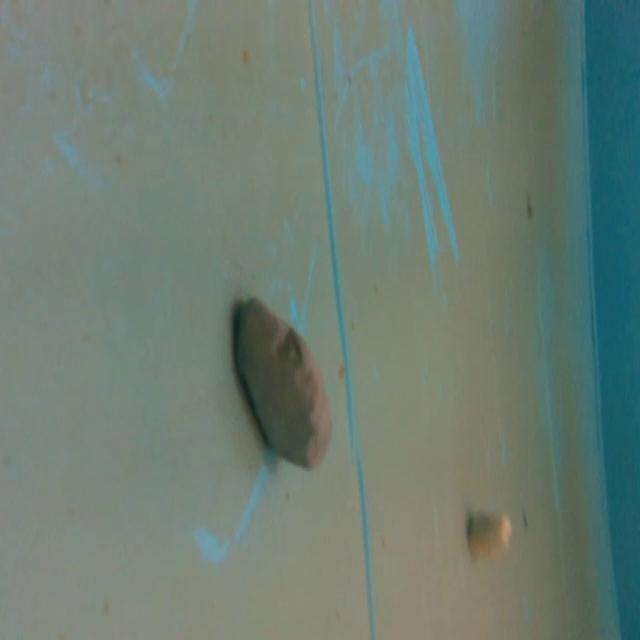rock: (232, 292, 340, 474), (463, 504, 519, 571)
